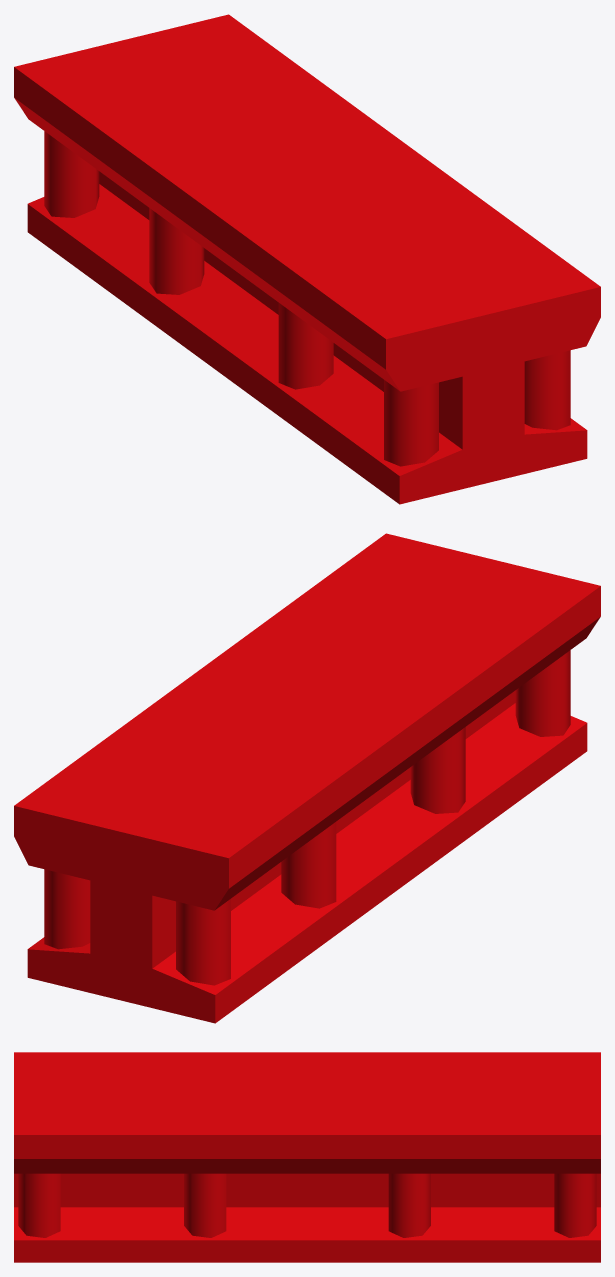
Rendered from BlockStraight.fbx.
3 views of the same model, one above another, from view 1: azimuth 30°, elevation 25°; view 2: azimuth 150°, elevation 25°; view 3: azimuth 270°, elevation 25° (orthographic). The views are drawn at different scales.
Parts seen in each view (by area): view 1: Cube.001; view 2: Cube.001; view 3: Cube.001.
Boxes of the visible parts, x1,y1,x2,y2 form: Cube.001: [14, 14, 600, 504]; Cube.001: [14, 533, 600, 1023]; Cube.001: [14, 1052, 600, 1262].
Size of the model in its own units: 200 by 150 by 600.
